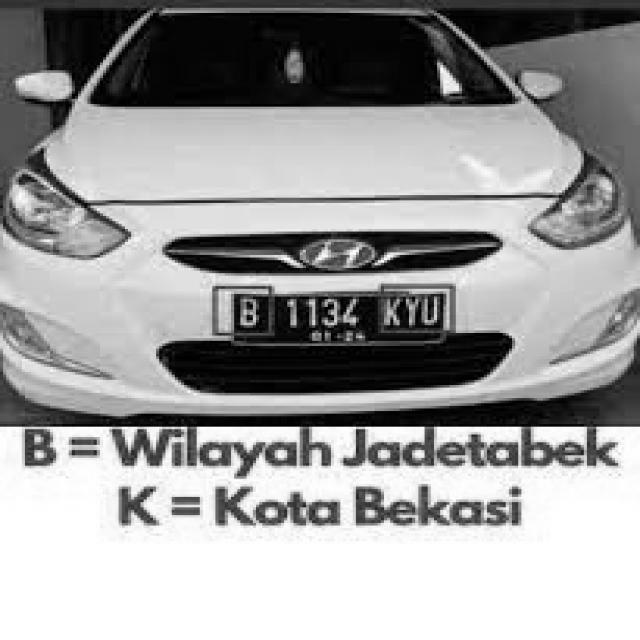1: (283, 295, 307, 336), (306, 296, 320, 336)
3: (320, 295, 342, 342)
4: (341, 296, 366, 341)
B: (236, 296, 258, 328)
K: (383, 290, 403, 330)
U: (426, 288, 444, 334)
Y: (400, 290, 422, 331)
